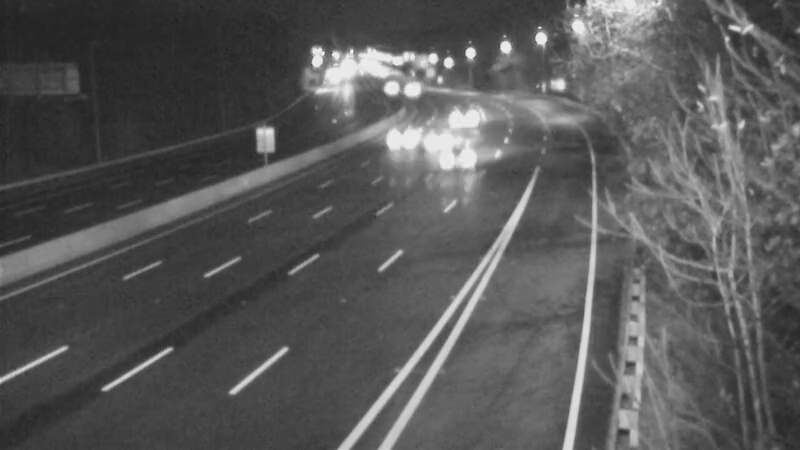vehicle: (417, 124, 497, 204), (379, 64, 429, 114), (359, 58, 409, 108), (432, 91, 482, 141), (374, 111, 424, 161), (416, 114, 466, 164)
